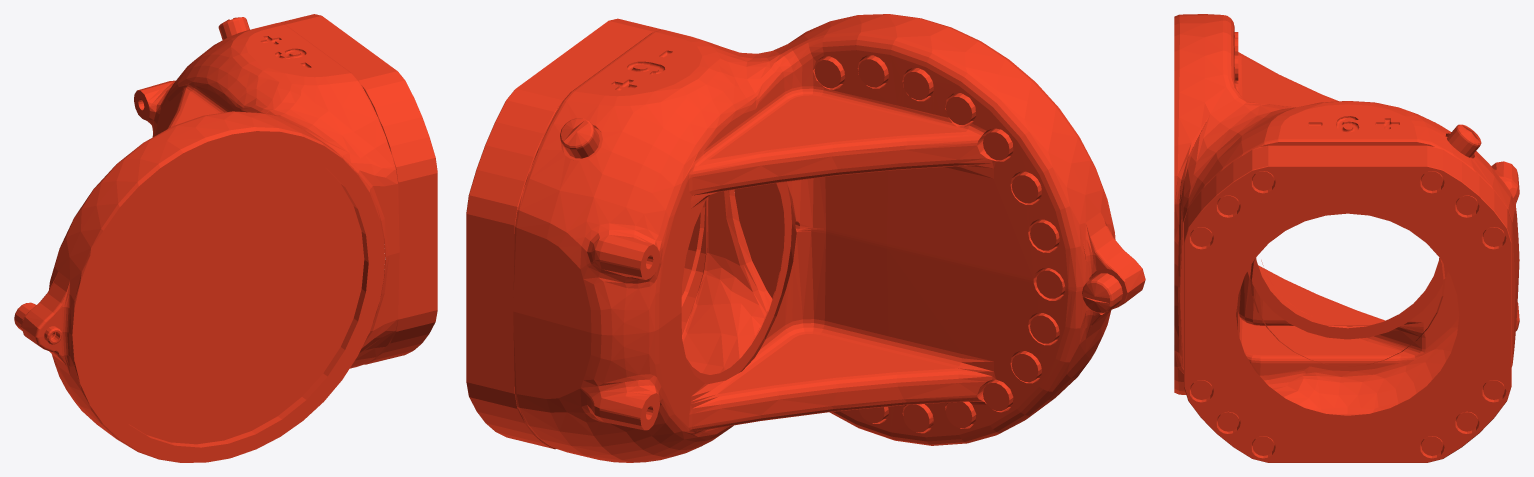
3 renders of one model, left to right at view 1: azimuth 30°, elevation 25°; view 2: azimuth 150°, elevation 25°; view 3: azimuth 270°, elevation 25°, orthographic. The views are drawn at different scales.
Visible parts, largest first — view 1: link_5; view 2: link_5; view 3: link_5.
Part boxes in pixels (bbox=[...]): link_5: bbox=[14, 14, 437, 462]; link_5: bbox=[466, 14, 1145, 462]; link_5: bbox=[1174, 14, 1519, 462].
Bounding box in the file's own units: 0.157 × 0.1115 × 0.1231.
